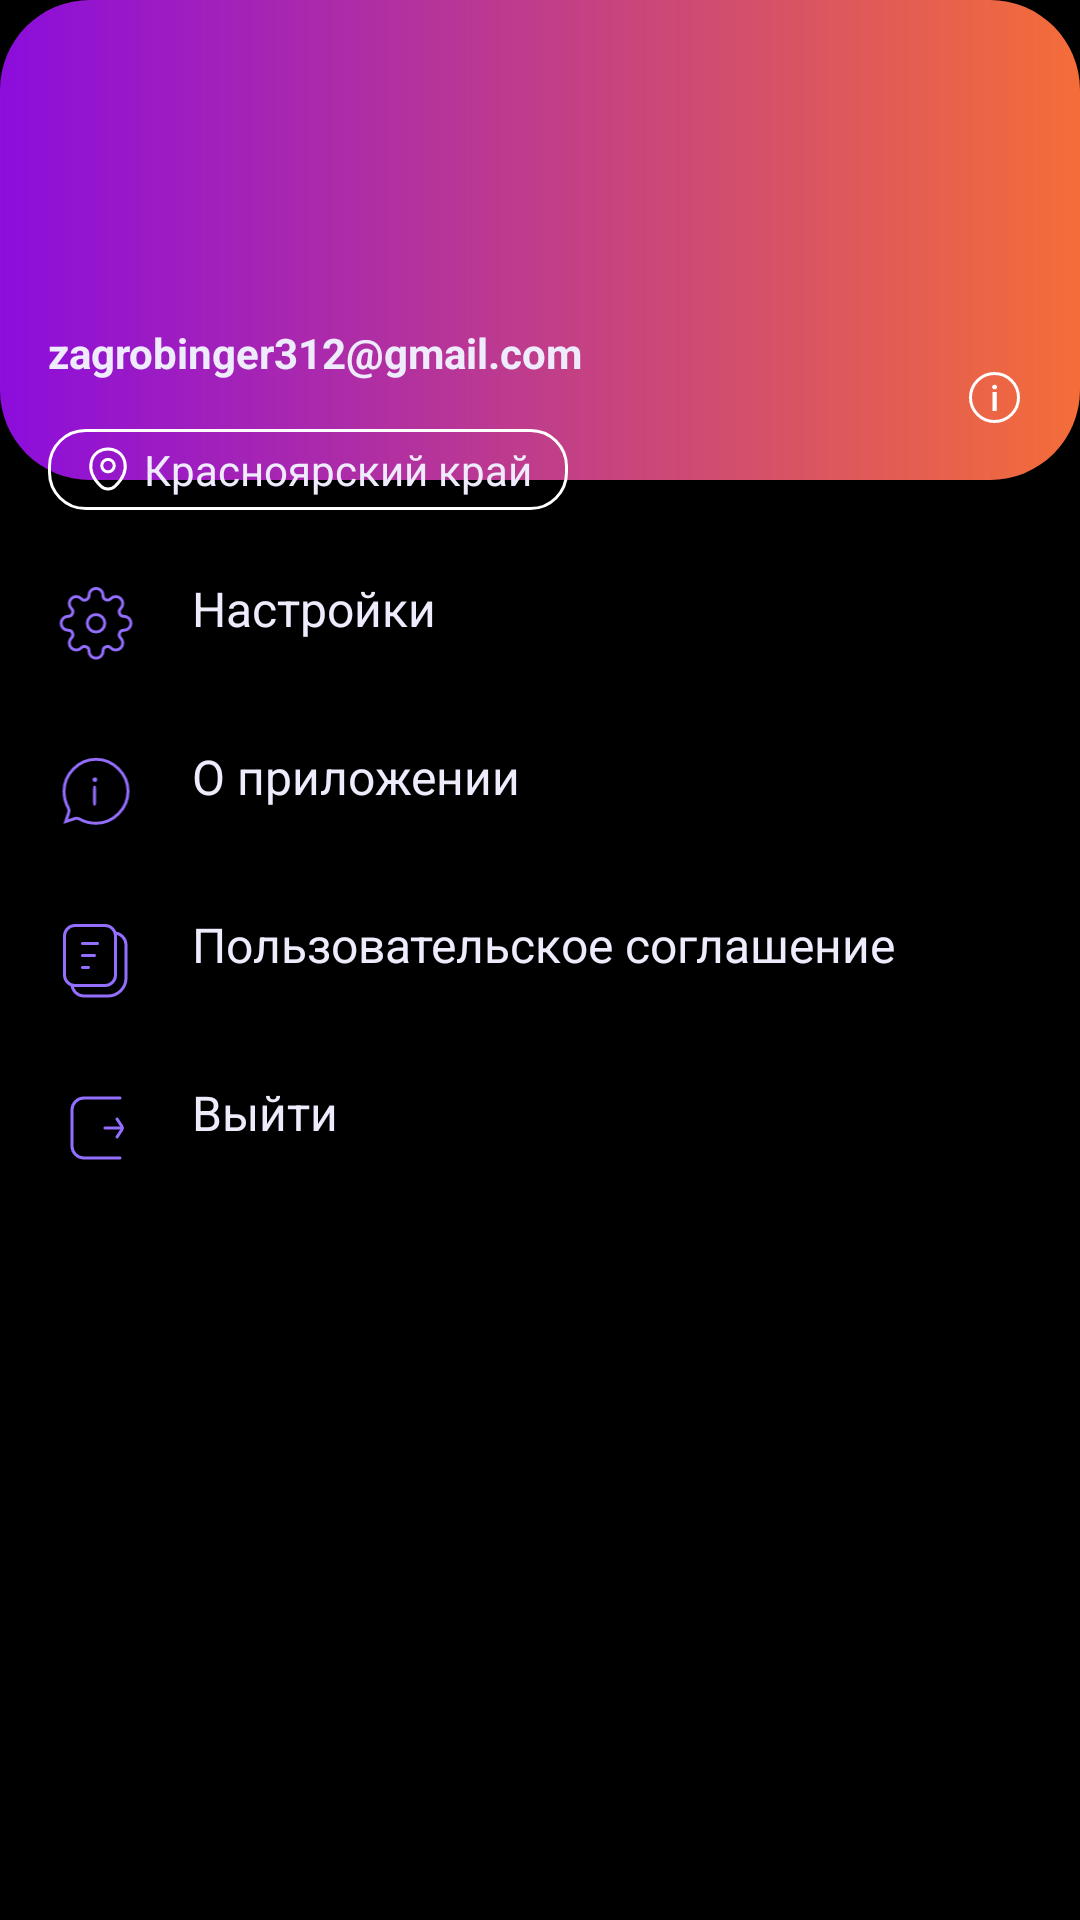

Screen size 1080w x 1920h. Icon name, then its box in pixels as (x1, y1, x2, y2):
about info: (62, 757, 130, 825)
exit: (70, 1096, 124, 1160)
info: (969, 372, 1020, 423)
rules: (63, 924, 128, 998)
settings: (59, 587, 133, 660)
